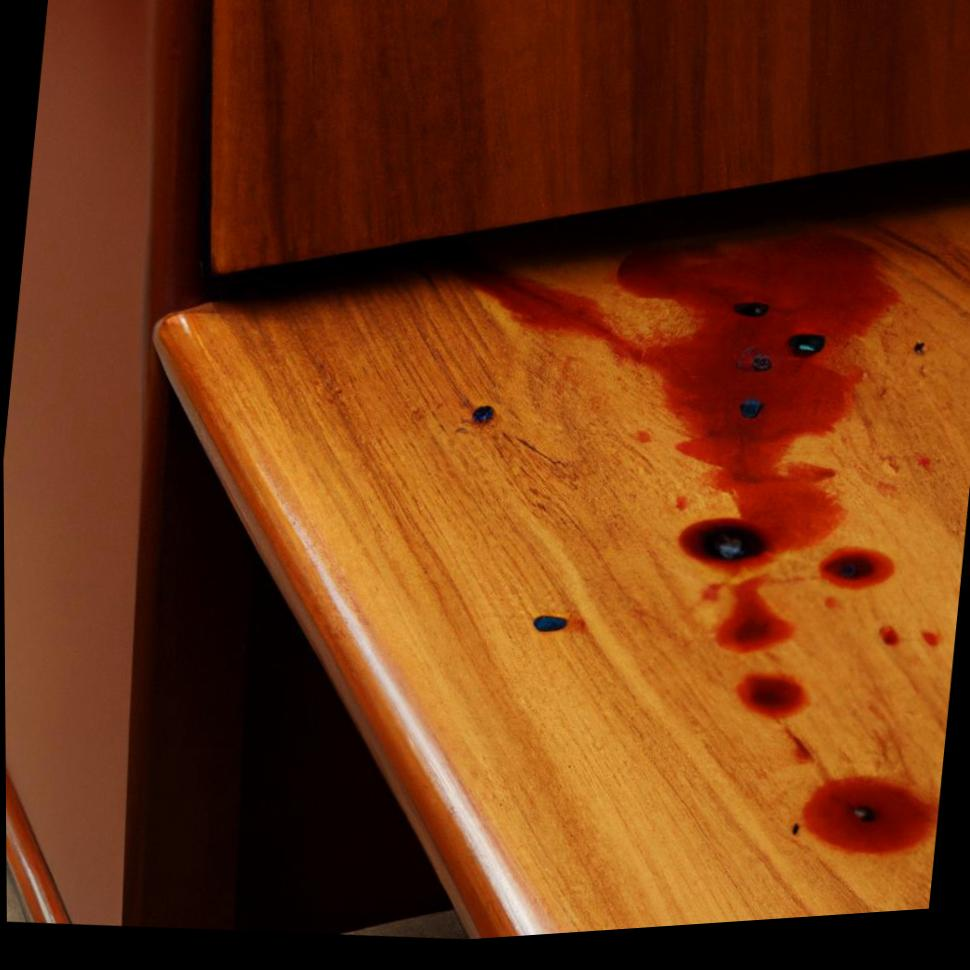Fire: (459, 238, 904, 588), (800, 787, 937, 865), (698, 582, 806, 664), (734, 683, 809, 729), (877, 636, 897, 658), (919, 644, 938, 659)
